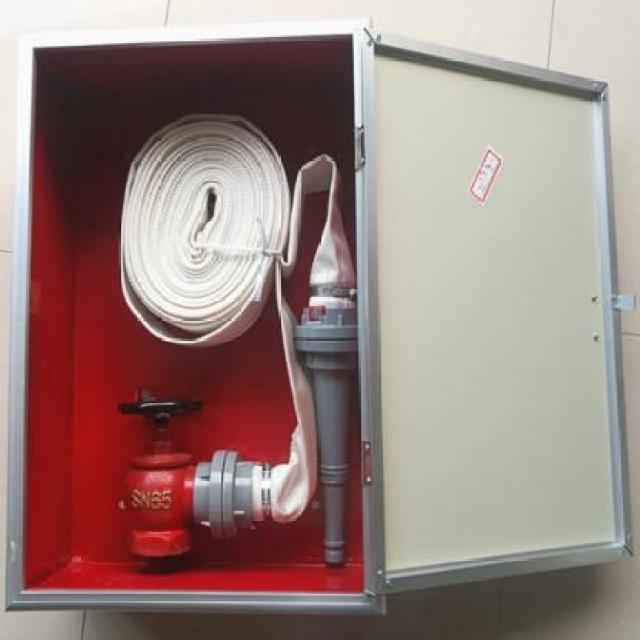firehydrant: (0, 9, 640, 624)
